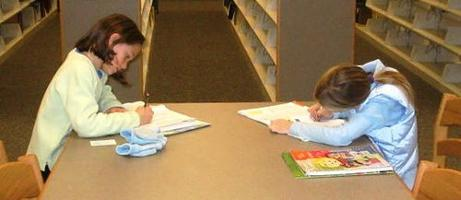person: (270, 59, 419, 193)
